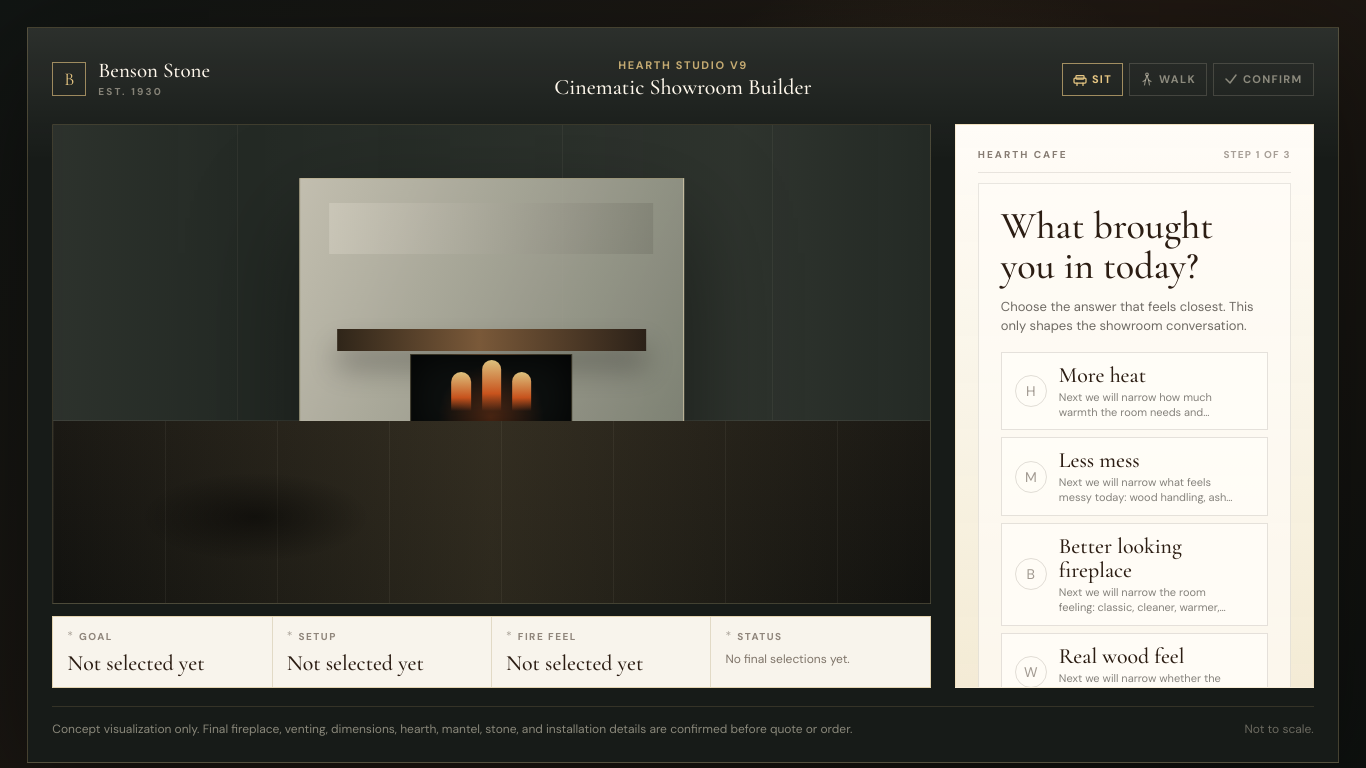
Hearth Studio V9 visual shell › gives reassuring guidance when the customer is not sure about context
Click the button "Better looking fireplace" at (1134, 574), box [1001,523,1268,626]
(page scrolled)
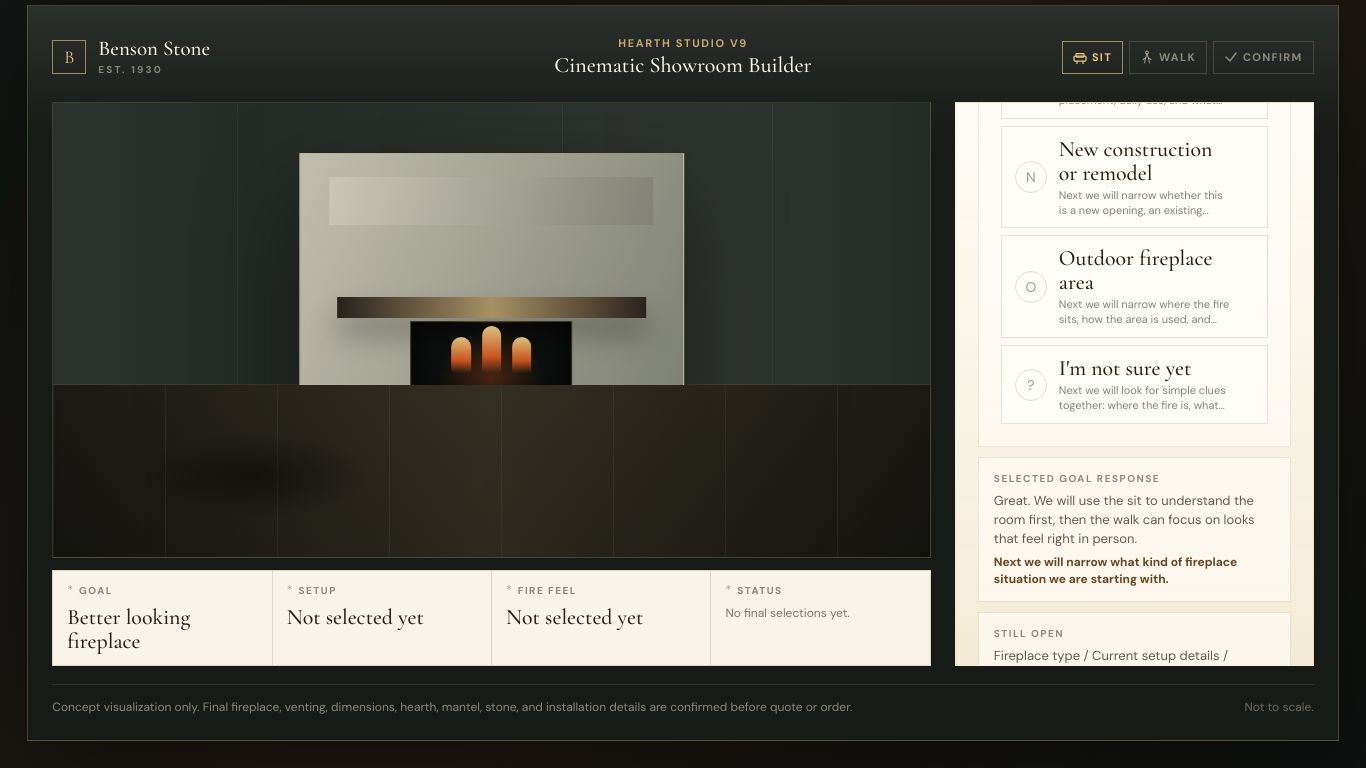
Click the button "I'm not sure yet" at (1134, 385), box [1001,345,1268,424]
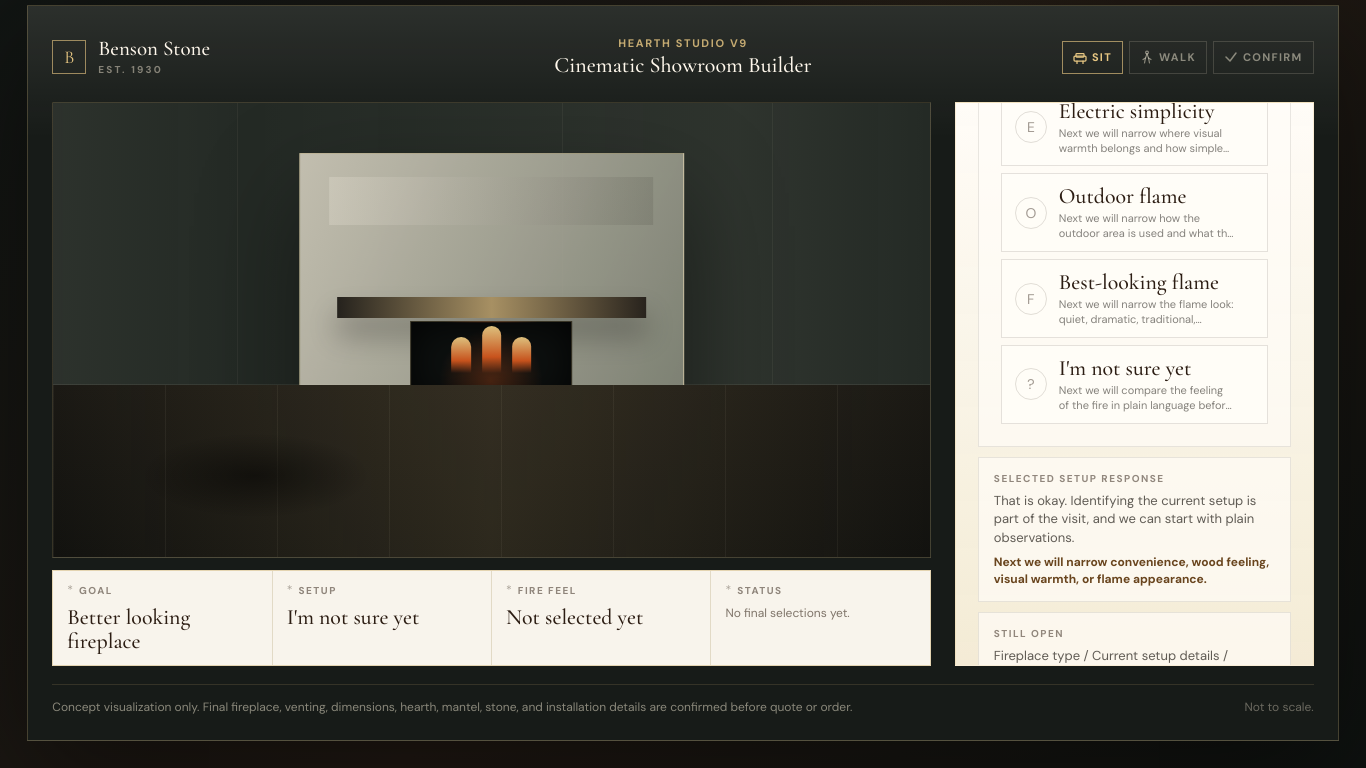
Expected: the element named "Selected response preview" shows "Identifying the current setup is part of the visit", [994,492,1256,546]
Expected: the element named "Selected response preview" shows "plain observations", [994,492,1256,546]
